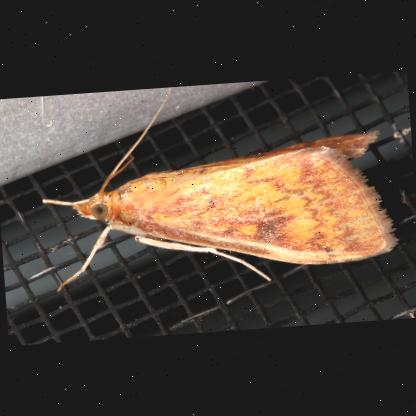Asian Corn Borer Moth: (33, 70, 406, 300)
